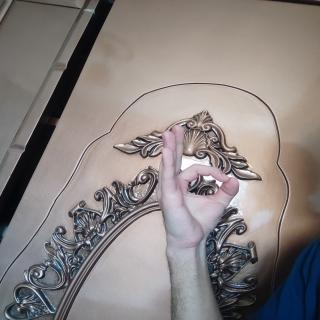Space: (146, 124, 248, 245)
